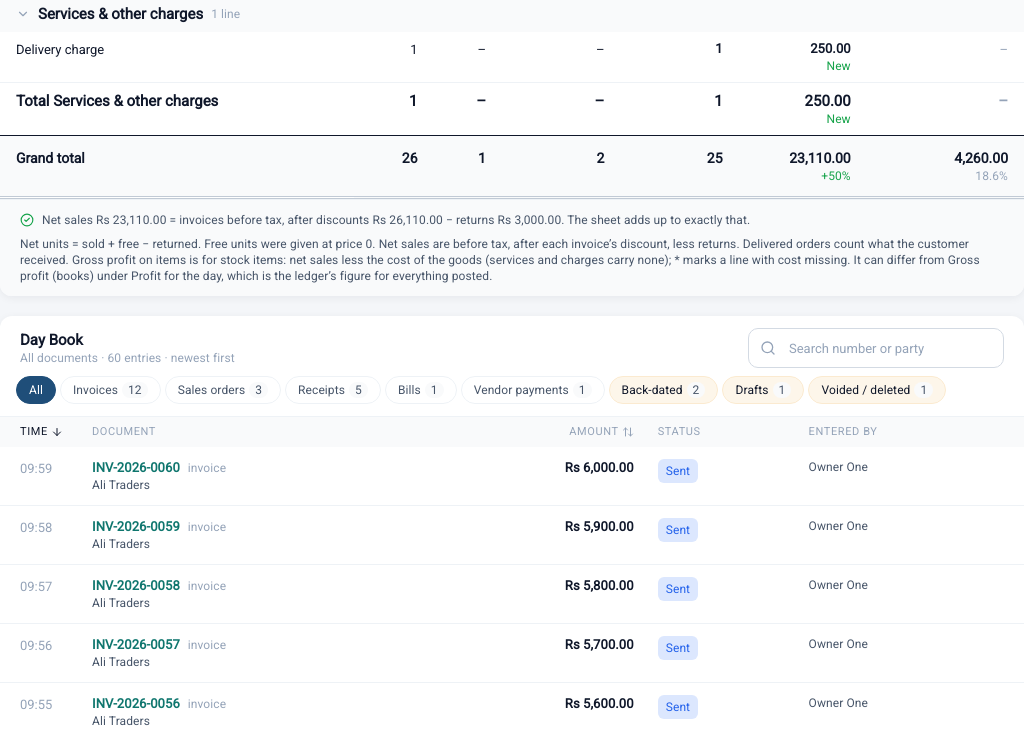
Test case: DaySummaryPage › a busy day › searches once typing pauses, and says when nothing matches
The width and height of the screenshot is (1024, 732).
(page scrolled)
In the search field named "Search the Day Book": (876, 348) [748,328,1004,368], type "INV-2026-0042"
(page scrolled)
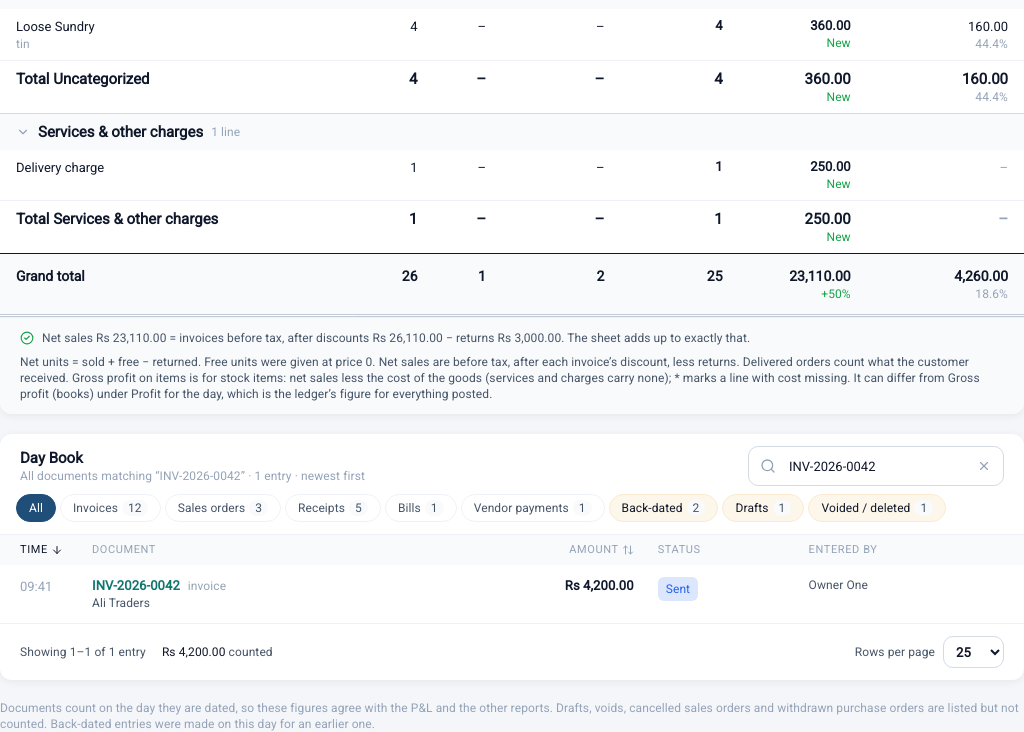
Expected: the text "Showing 1–1 of 1 entry" is shown, [20,644,146,660]
Replace the text in the search field named "Search the Day Book" with "nothing-like-this": (876, 466) [748,446,1004,486]
(page scrolled)
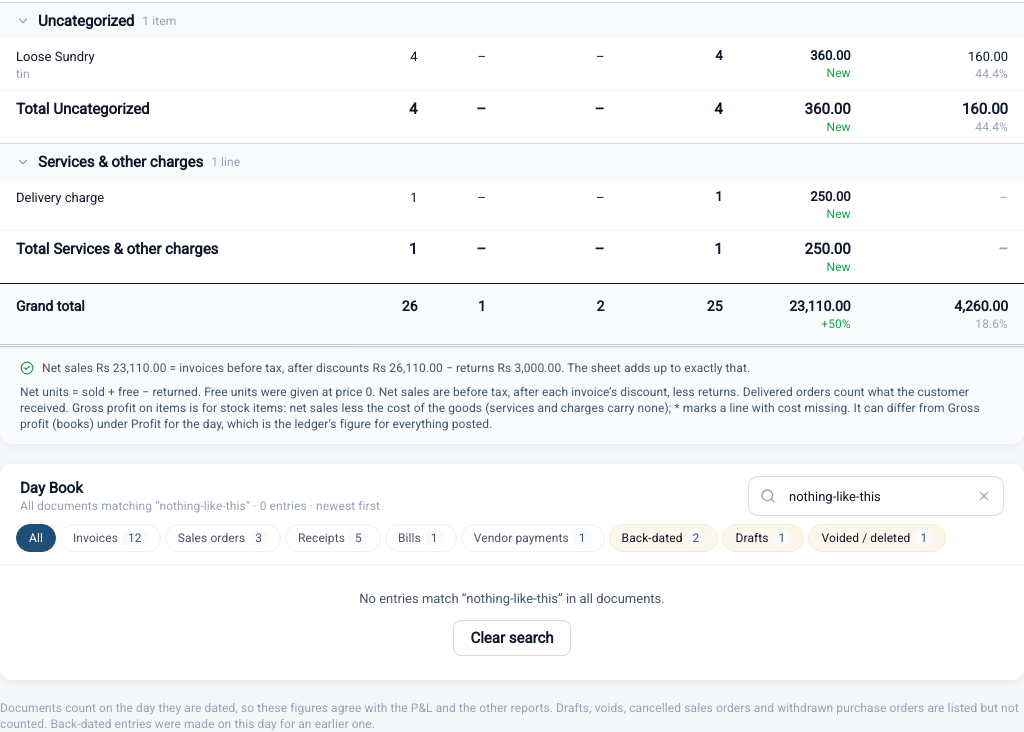
Expected: the text "No entries match “nothing-like-this” in all documents." is shown, [359,589,665,608]
